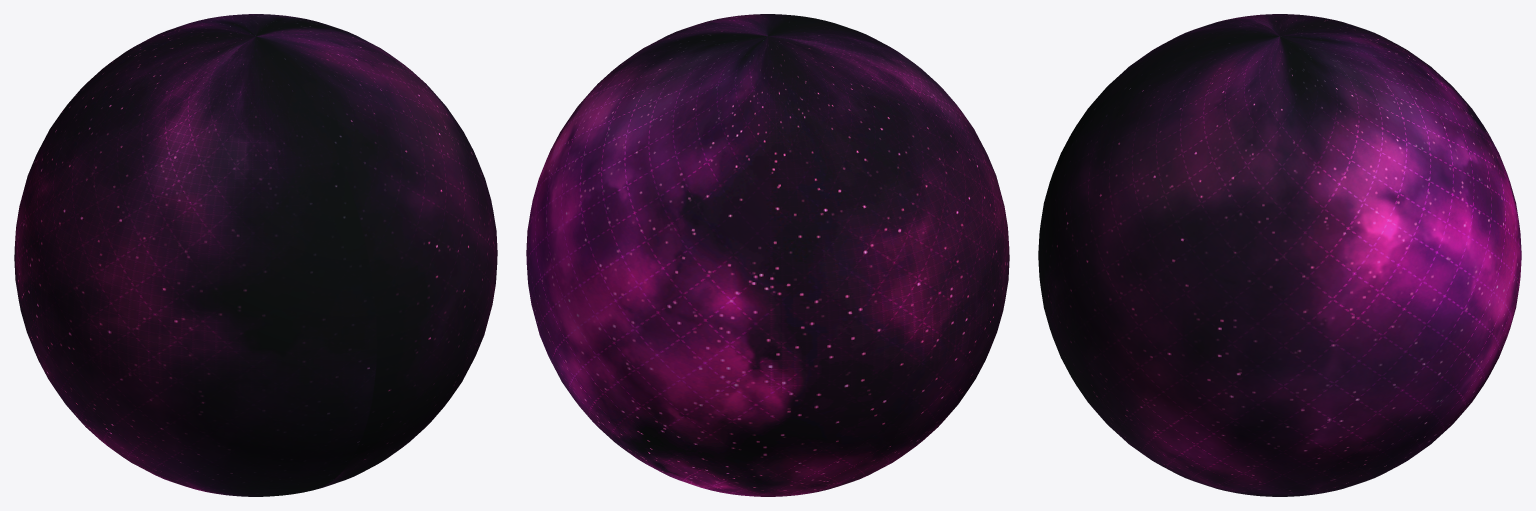
The model's file is AMD_Toshiba_Satellite_C660_Laptop_FREE_Low_Poly.glb.
3 views of the same model, side by side, from view 1: azimuth 30°, elevation 25°; view 2: azimuth 150°, elevation 25°; view 3: azimuth 270°, elevation 25° (orthographic).
Visible parts, largest first — view 1: unnamed; view 2: unnamed; view 3: unnamed.
Part boxes in pixels (x1,y1,x2,y2): unnamed: (14, 14, 497, 496); unnamed: (526, 14, 1009, 496); unnamed: (1038, 14, 1521, 496).
Size of the model in its own units: 50.41 by 50.41 by 50.41.
11 materials, 11 textured.
